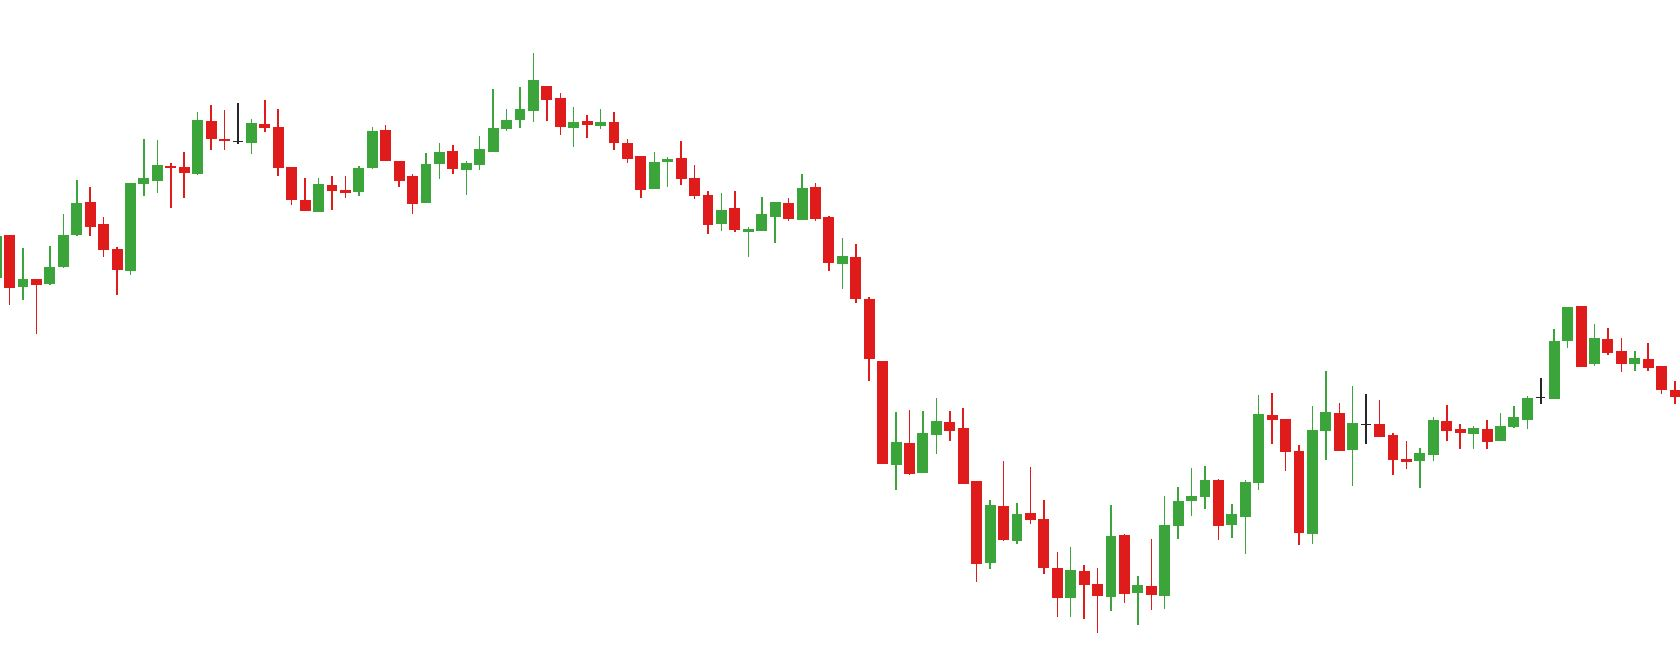buy: (970, 508, 1079, 629), (163, 140, 329, 216)
